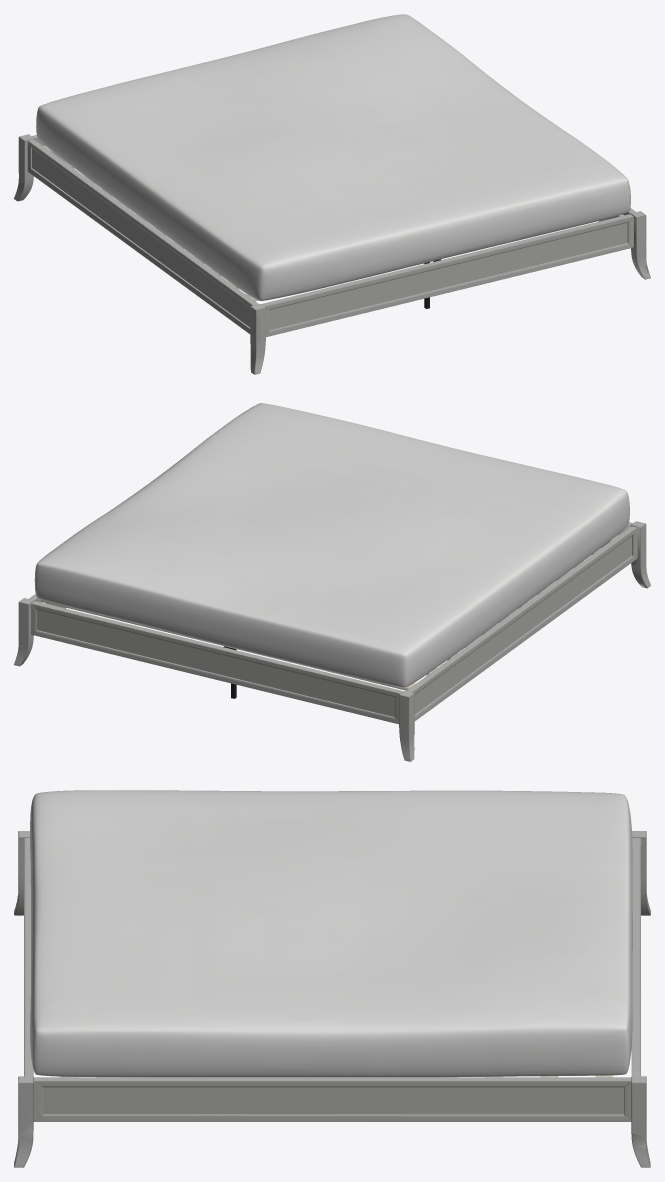
File: B084ZBLCFL.glb
The picture shows the model from 3 angles, top to bottom: view 1: azimuth 30°, elevation 25°; view 2: azimuth 150°, elevation 25°; view 3: azimuth 270°, elevation 25°; orthographic projection. The views are drawn at different scales.
Parts seen in each view (by area): view 1: RootNode; view 2: RootNode; view 3: RootNode.
Part boxes in pixels (x1,y1,x2,y2): RootNode: [14, 14, 650, 374]; RootNode: [14, 403, 650, 761]; RootNode: [14, 790, 650, 1167].
Size of the model in its own units: 2.01 by 0.5097 by 2.11.
Materials: 1 (1 with a texture image).
